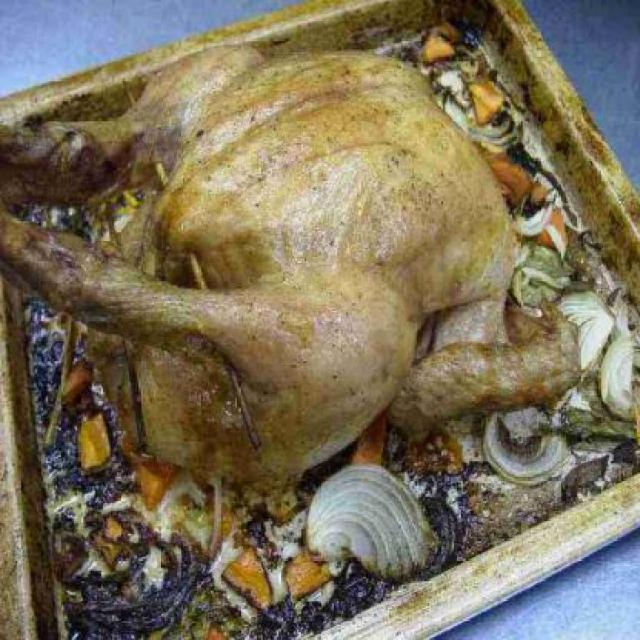Chicken roast: (22, 54, 595, 454)
